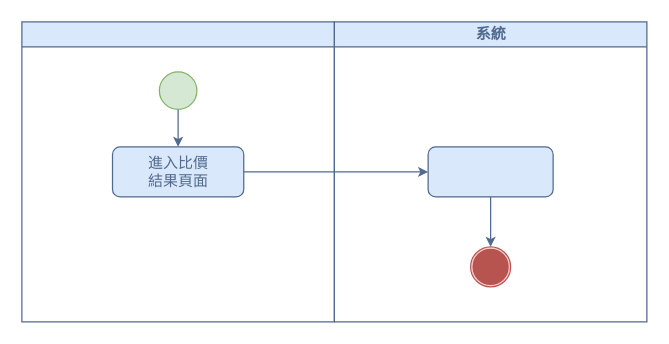
Some shapes in this 669 by 344 pixel diagram are drawn without their labels. The box of each missing label's shape, as (x1, y1, x2, y2) in pixels:
動作者: (21, 21, 334, 322)
顯示歷史最低 價格圖表: (427, 146, 553, 197)
